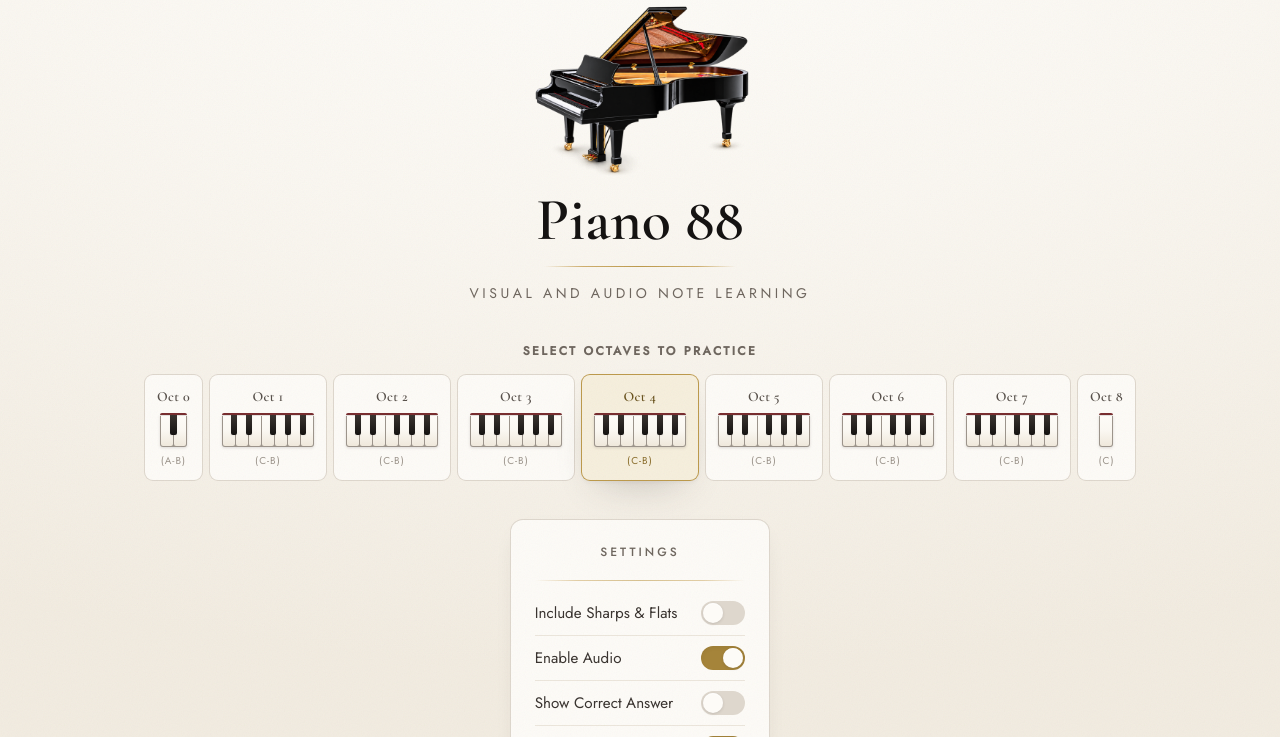
Scenario: MainScreen › Start button › should become disabled after deselecting all octaves
Note: Deselect octave 4
What coordinates should you click on to do the following:
click the checkbox labelled "Oct 4 (C-B)"
I would click on:
 (640, 428)
Its box is [582,375,698,480].
(page scrolled)
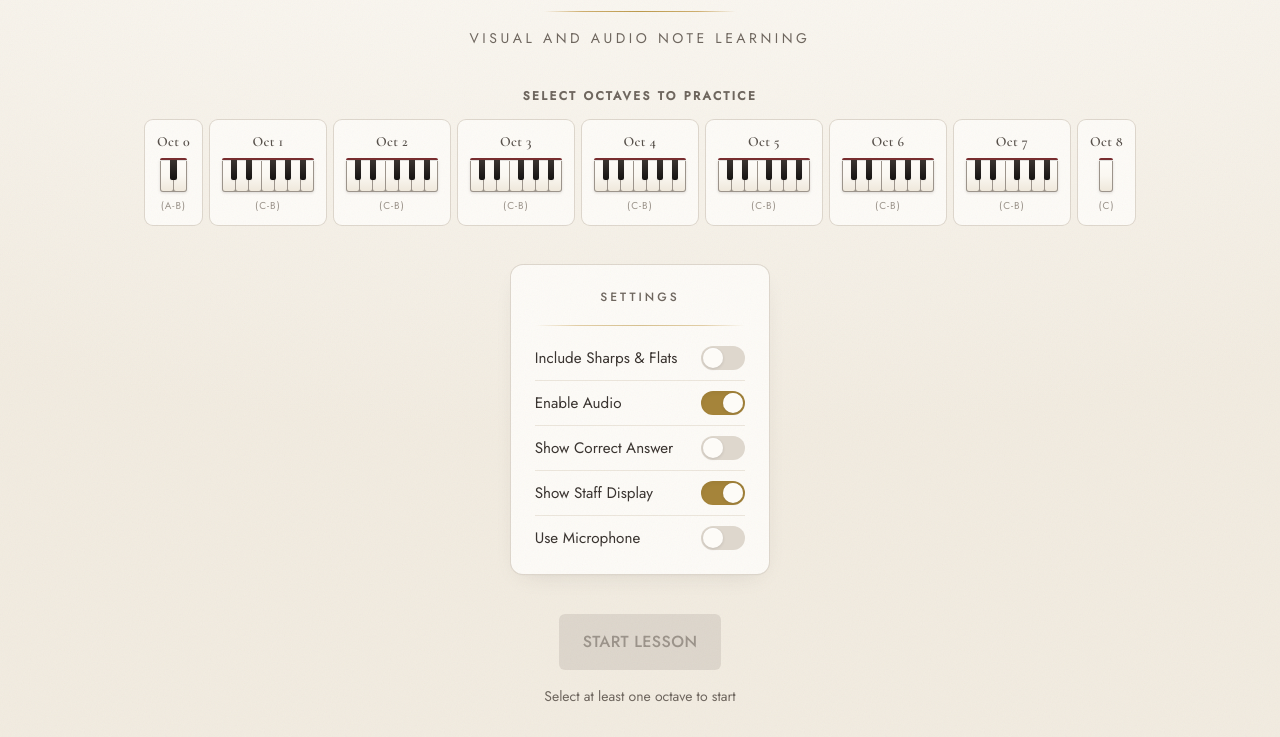
Now the button "Start Lesson" is disabled, box [559,614,721,670]
